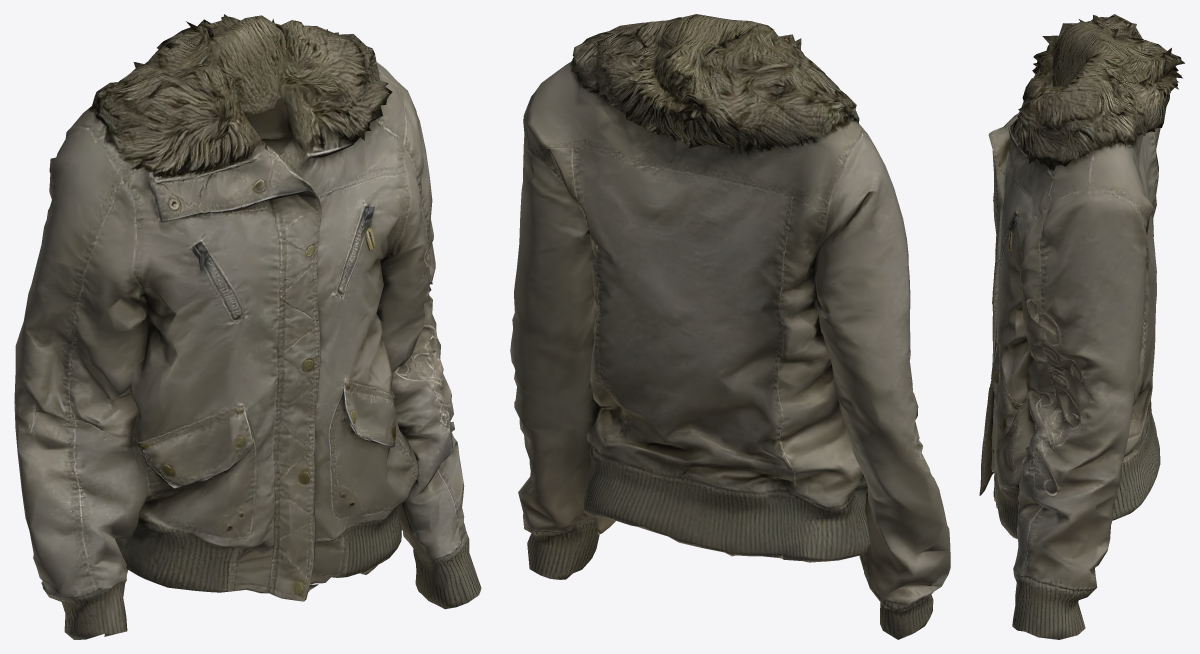
3 views of the same model, side by side, from view 1: azimuth 30°, elevation 25°; view 2: azimuth 150°, elevation 25°; view 3: azimuth 270°, elevation 25° (orthographic). The views are drawn at different scales.
Parts seen in each view (by area): view 1: tripo_node_35c84db3-6b58-40a1-8b4e-9897cbf26bcf; view 2: tripo_node_35c84db3-6b58-40a1-8b4e-9897cbf26bcf; view 3: tripo_node_35c84db3-6b58-40a1-8b4e-9897cbf26bcf.
Boxes of the visible parts, <box> form: tripo_node_35c84db3-6b58-40a1-8b4e-9897cbf26bcf: <box>14,14,481,639</box>; tripo_node_35c84db3-6b58-40a1-8b4e-9897cbf26bcf: <box>510,14,950,639</box>; tripo_node_35c84db3-6b58-40a1-8b4e-9897cbf26bcf: <box>979,14,1184,639</box>.
Bounding box in the file's own units: 0.5847 × 0.7978 × 0.2799.
1 material, 1 textured.
